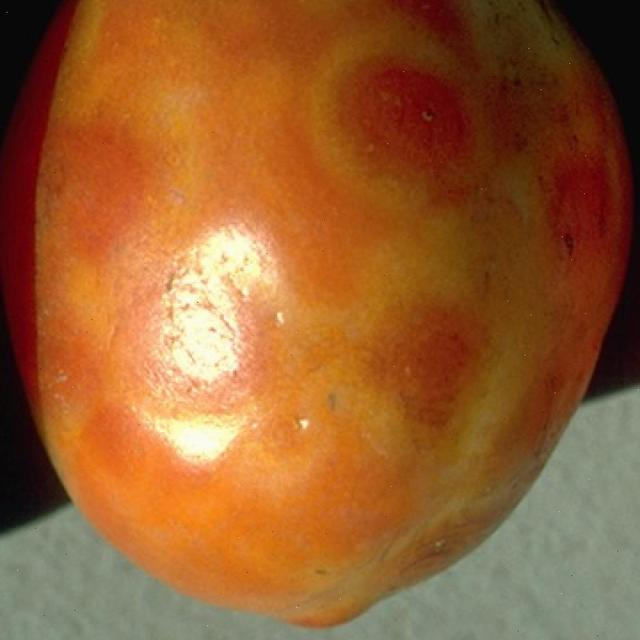Spotted wilt Virus Fruit: (2, 0, 421, 423)
